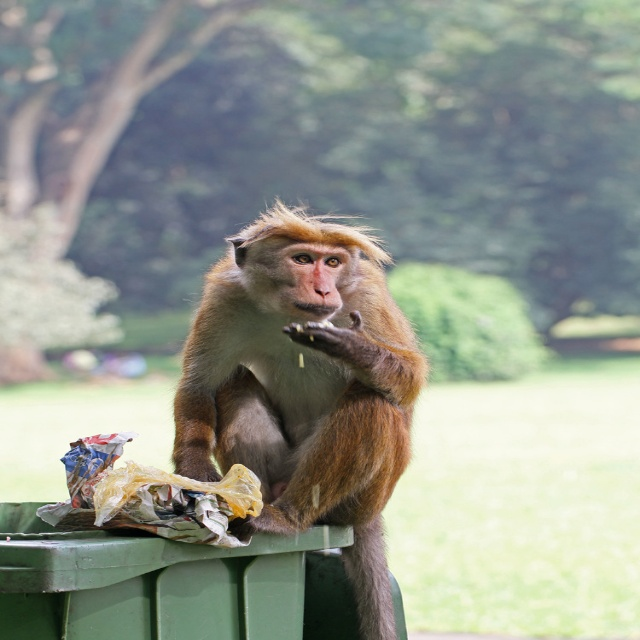Monkey: (213, 196, 444, 617)
